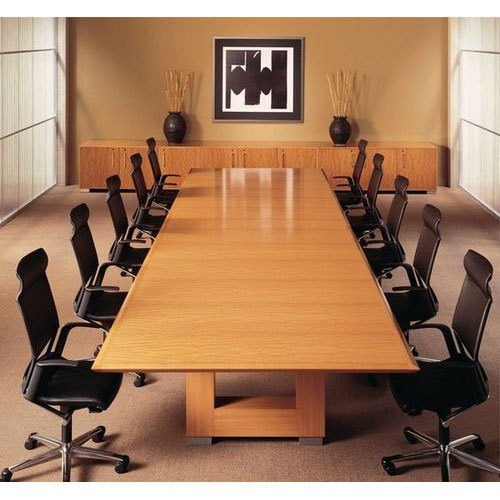conference_table: (90, 168, 420, 448)
